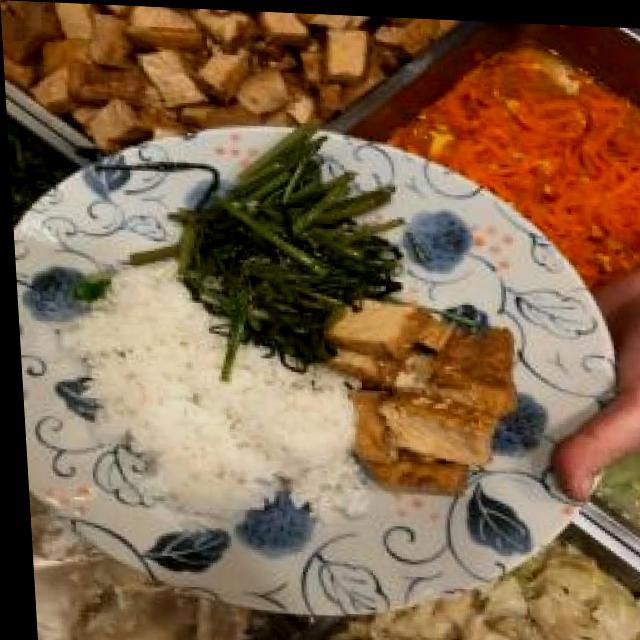carrot_eggs: (468, 81, 640, 202)
chinese_cabbage: (470, 587, 640, 640)
rice: (93, 323, 341, 496)
water_spinach: (201, 185, 357, 303)
